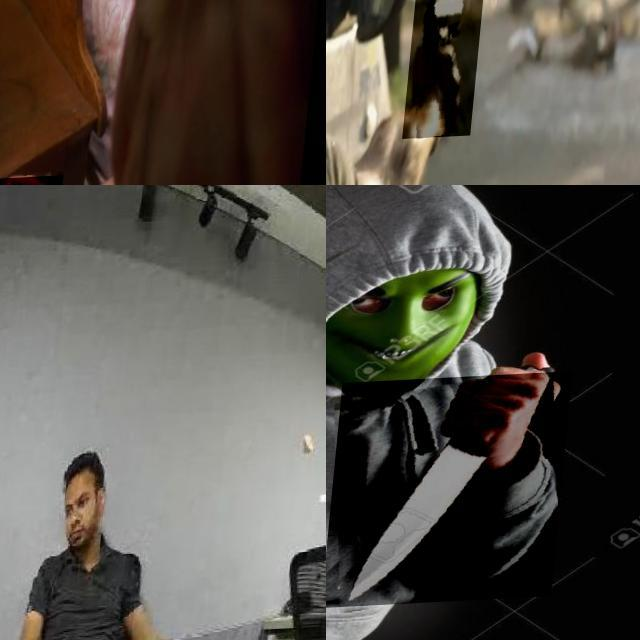-: (331, 377, 578, 611)
gun-knife-thesis - v11 Yolov5 augmented: (408, 0, 489, 142)
